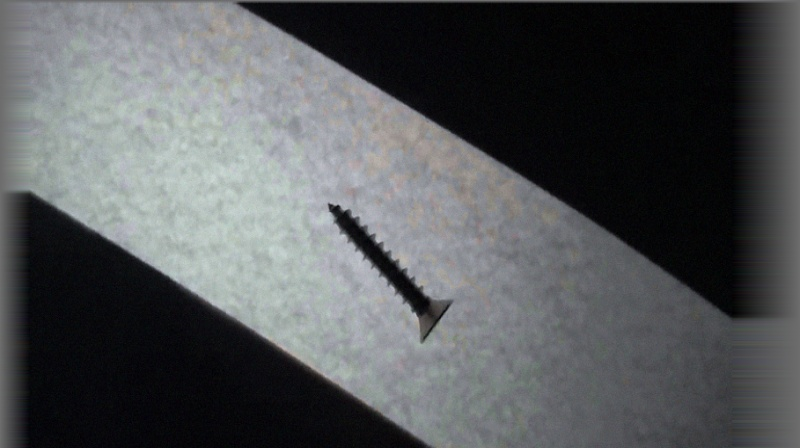S001: (322, 198, 458, 347)
